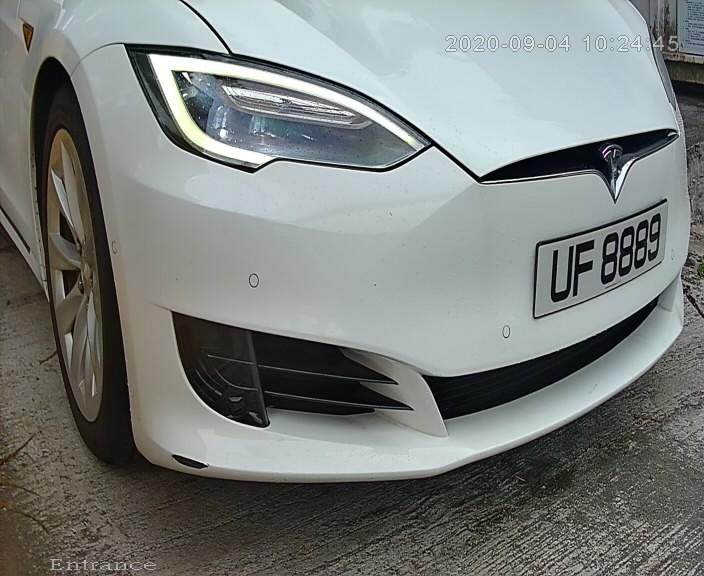License Plate: (522, 188, 678, 341)
